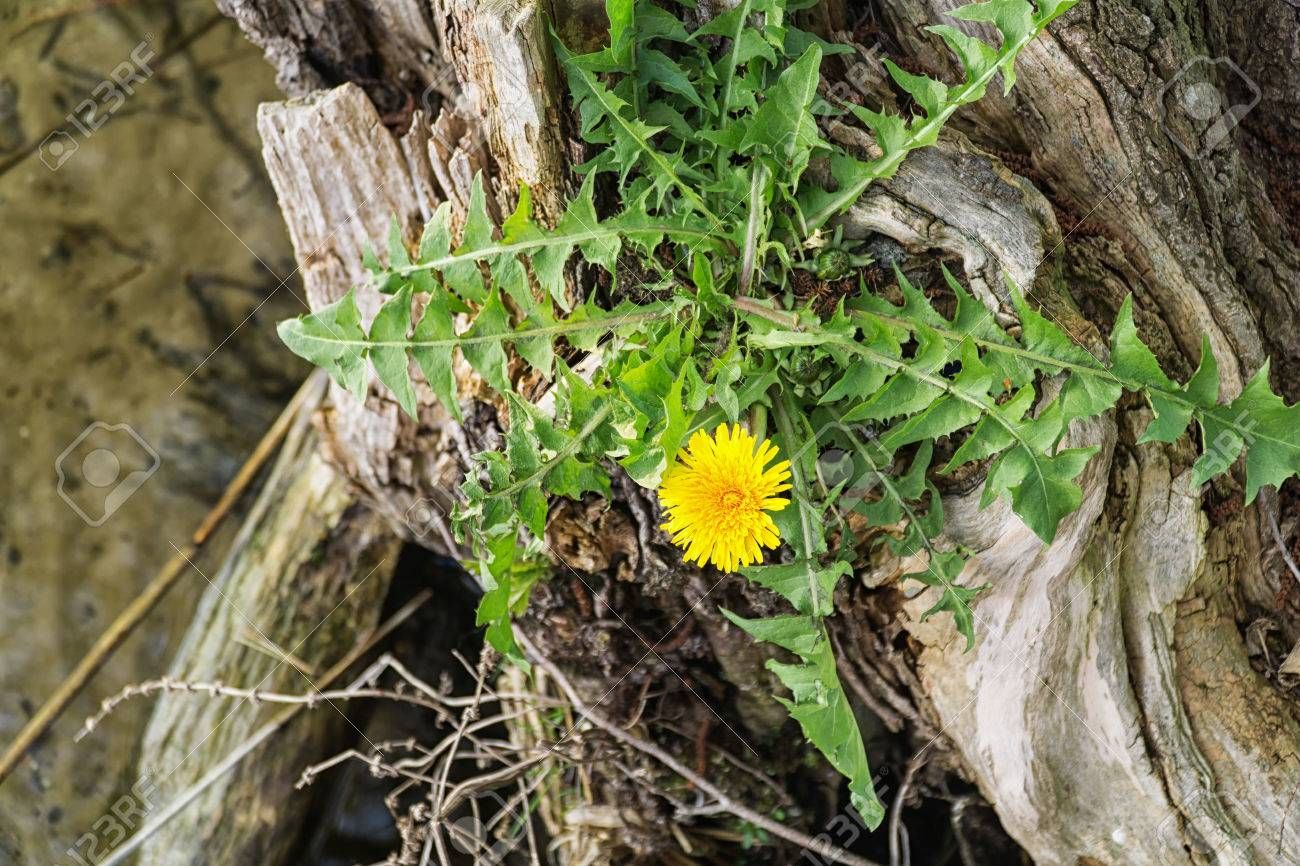dandelion: (685, 441, 781, 555)
